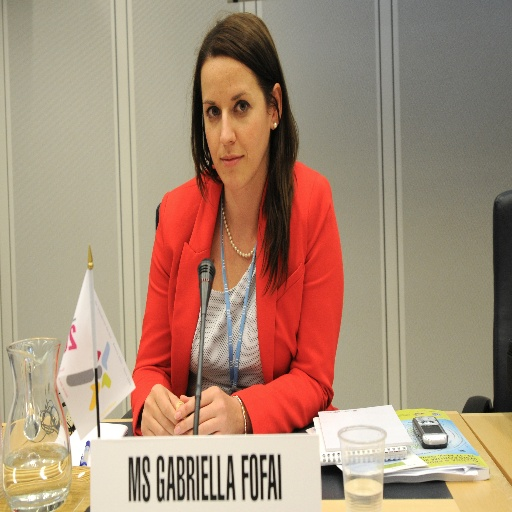hand: (172, 385, 245, 434), (133, 389, 185, 437)
